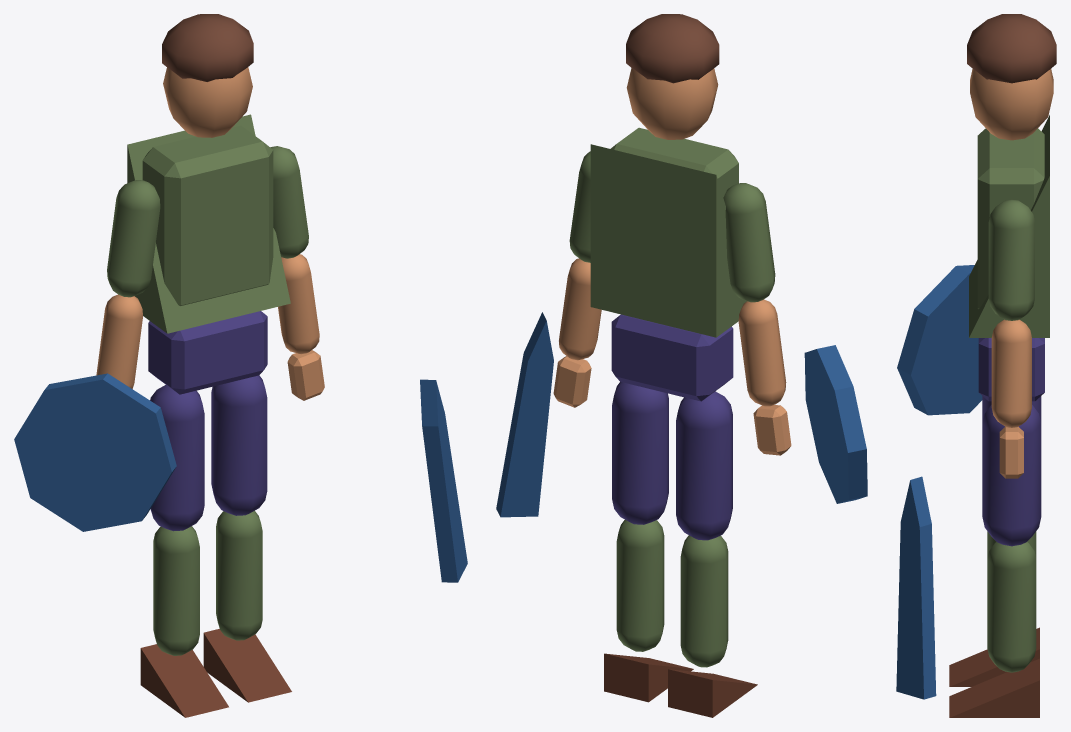
Rendered from adventurer.rustic.glb.
The picture shows the model from 3 angles, left to right: view 1: azimuth 30°, elevation 25°; view 2: azimuth 150°, elevation 25°; view 3: azimuth 270°, elevation 25°; orthographic projection.
Visible parts, largest first — view 1: accessory.off-hand, torso, pelvis, thigh.right, tunic, shin.right, shin.left, thigh.left, accessory.main-hand, hair, upper-arm.left, head (+6 smaller); view 2: tunic, pelvis, thigh.left, thigh.right, accessory.off-hand, accessory.main-hand, shin.right, shin.left, hair, upper-arm.left, head, forearm.left (+7 smaller); view 3: accessory.off-hand, accessory.main-hand, thigh.right, shin.right, torso, upper-arm.right, hair, head, tunic, forearm.right, foot.right, pelvis (+2 smaller).
Boxes of the visible parts, x1=… form: accessory.off-hand: x1=14, y1=373, x2=176, y2=531; torso: x1=142, y1=125, x2=273, y2=305; pelvis: x1=148, y1=311, x2=267, y2=394; thigh.right: x1=211, y1=375, x2=267, y2=515; tunic: x1=127, y1=114, x2=290, y2=333; shin.right: x1=216, y1=510, x2=262, y2=640; shin.left: x1=153, y1=526, x2=199, y2=655; thigh.left: x1=150, y1=385, x2=204, y2=531; accessory.main-hand: x1=420, y1=379, x2=467, y2=582; hair: x1=162, y1=14, x2=253, y2=81; upper-arm.left: x1=107, y1=180, x2=160, y2=297; head: x1=163, y1=67, x2=252, y2=137; tunic: x1=590, y1=144, x2=746, y2=337; pelvis: x1=611, y1=314, x2=733, y2=401; thigh.left: x1=676, y1=391, x2=732, y2=540; thigh.right: x1=612, y1=382, x2=668, y2=524; accessory.off-hand: x1=804, y1=345, x2=867, y2=503; accessory.main-hand: x1=496, y1=312, x2=553, y2=517; shin.right: x1=616, y1=520, x2=664, y2=651; shin.left: x1=680, y1=535, x2=728, y2=667; hair: x1=626, y1=14, x2=719, y2=83; upper-arm.left: x1=723, y1=183, x2=775, y2=302; head: x1=626, y1=68, x2=718, y2=139; forearm.left: x1=738, y1=299, x2=786, y2=406; accessory.off-hand: x1=897, y1=265, x2=982, y2=415; accessory.main-hand: x1=896, y1=476, x2=936, y2=699; thigh.right: x1=982, y1=405, x2=1041, y2=546; shin.right: x1=987, y1=542, x2=1036, y2=672; torso: x1=977, y1=128, x2=1044, y2=308; upper-arm.right: x1=988, y1=199, x2=1034, y2=320; hair: x1=967, y1=14, x2=1056, y2=83; head: x1=970, y1=69, x2=1053, y2=140; tunic: x1=969, y1=115, x2=1049, y2=337; forearm.right: x1=991, y1=319, x2=1031, y2=427; foot.right: x1=949, y1=658, x2=1039, y2=717; pelvis: x1=978, y1=338, x2=1044, y2=401.
Bounding box in the file's own units: 1.95 × 3.03 × 0.654.
